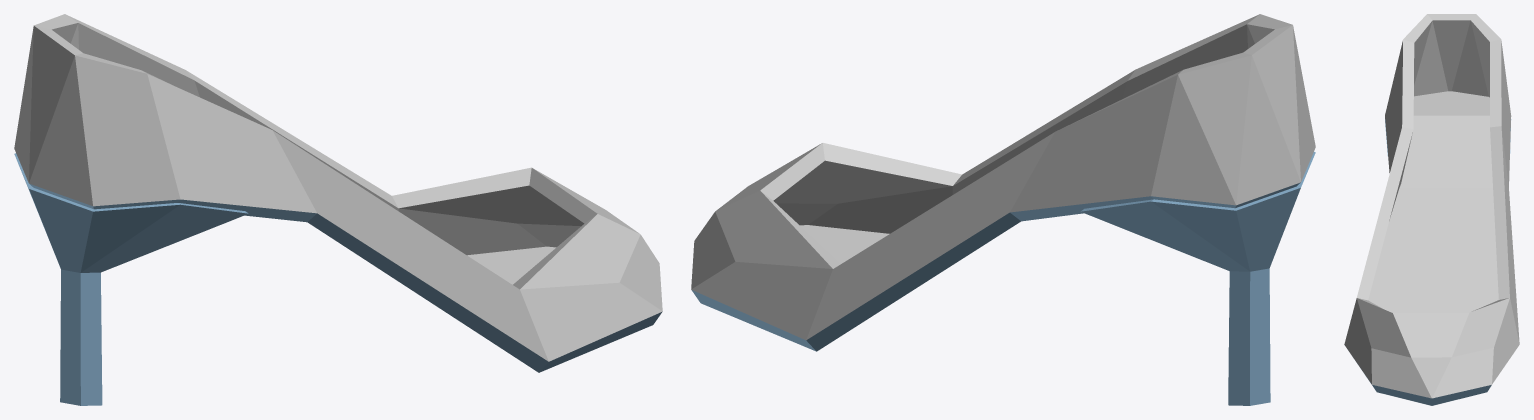
Rendered from heel.fbx.
3 views of the same model, side by side, from view 1: azimuth 30°, elevation 25°; view 2: azimuth 150°, elevation 25°; view 3: azimuth 270°, elevation 25° (orthographic). The views are drawn at different scales.
Visible parts, largest first — view 1: Heel; view 2: Heel; view 3: Heel.
Boxes of the visible parts, bbox=[...] form: Heel: bbox=[14, 14, 662, 405]; Heel: bbox=[691, 14, 1315, 405]; Heel: bbox=[1344, 14, 1519, 405].
Size of the model in its own units: 5.07 by 2.92 by 2.09.
